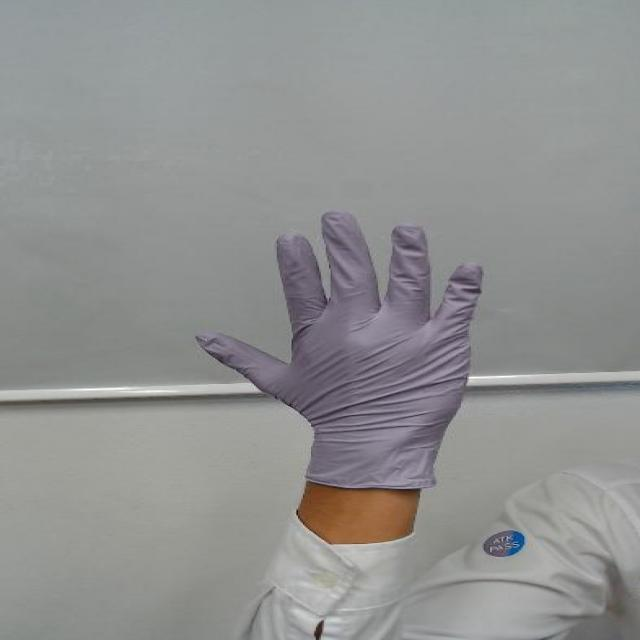with_gloves: (151, 199, 507, 423)
